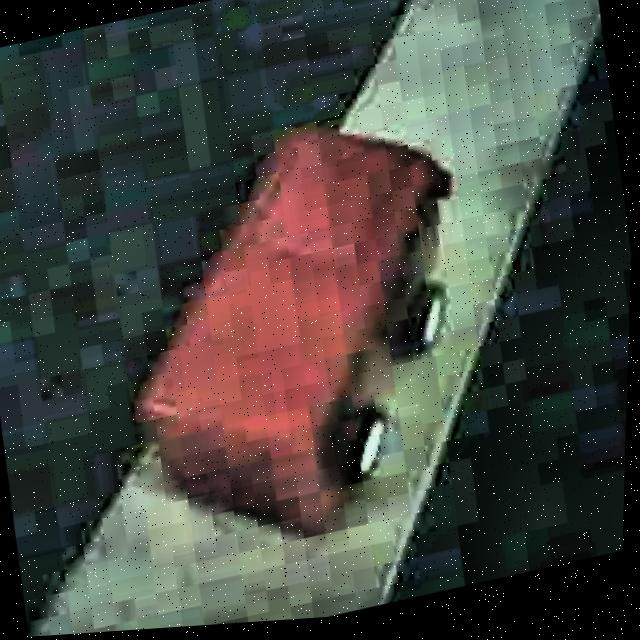bus: (97, 91, 503, 575)
